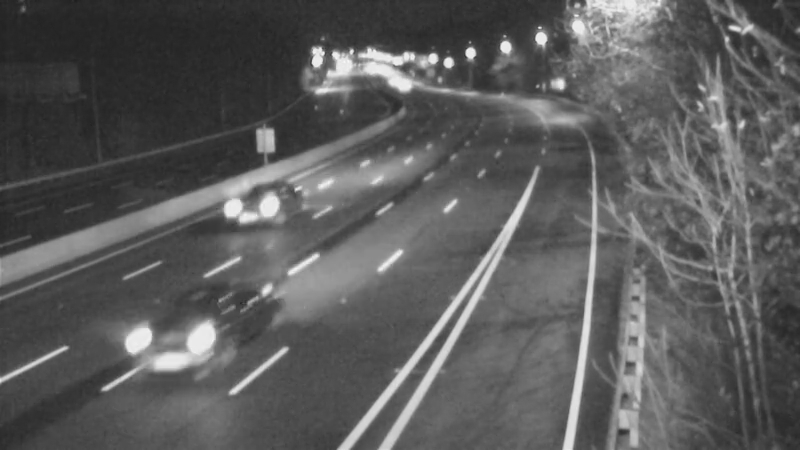vehicle: (120, 278, 230, 388), (212, 166, 292, 246), (378, 61, 428, 111)
